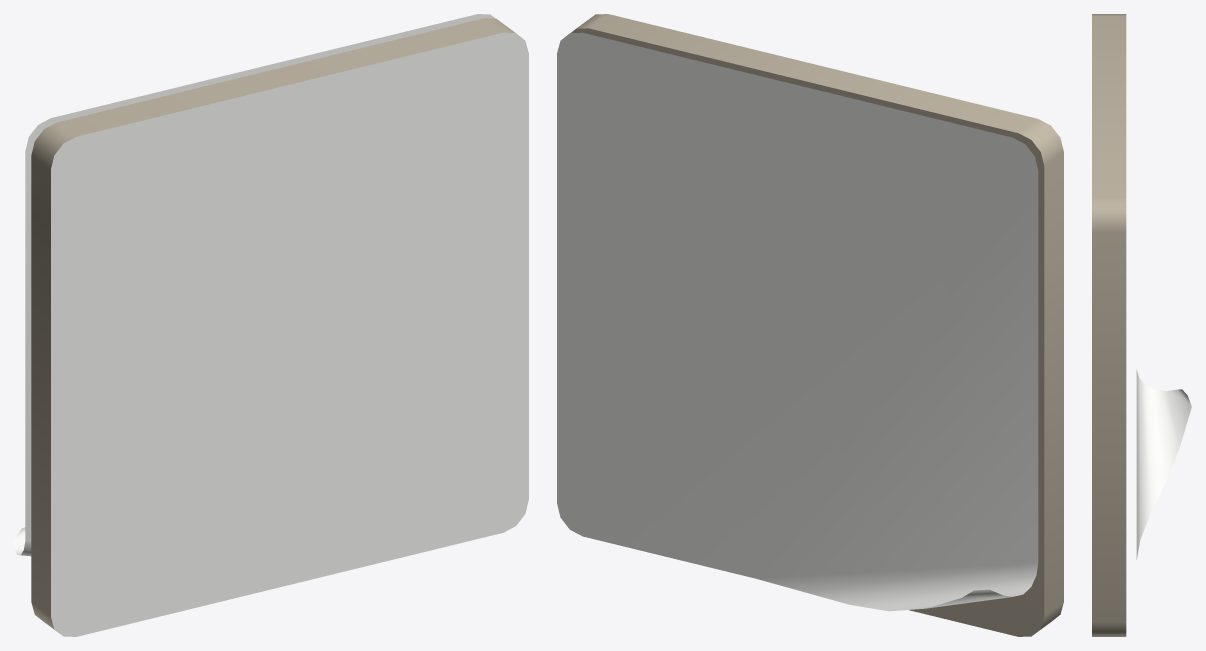
The model's file is date_bg.glb.
3 renders of one model, left to right at view 1: azimuth 30°, elevation 25°; view 2: azimuth 150°, elevation 25°; view 3: azimuth 270°, elevation 25°, orthographic. The views are drawn at different scales.
Visible parts, largest first — view 1: date_bg; view 2: date_bg; view 3: date_bg.
Boxes of the visible parts, x1,y1,x2,y2 form: date_bg: [14, 14, 528, 636]; date_bg: [557, 14, 1063, 636]; date_bg: [1092, 14, 1191, 636].
Size of the model in its own units: 1 by 1 by 0.207.
Materials: 1 (1 with a texture image).
